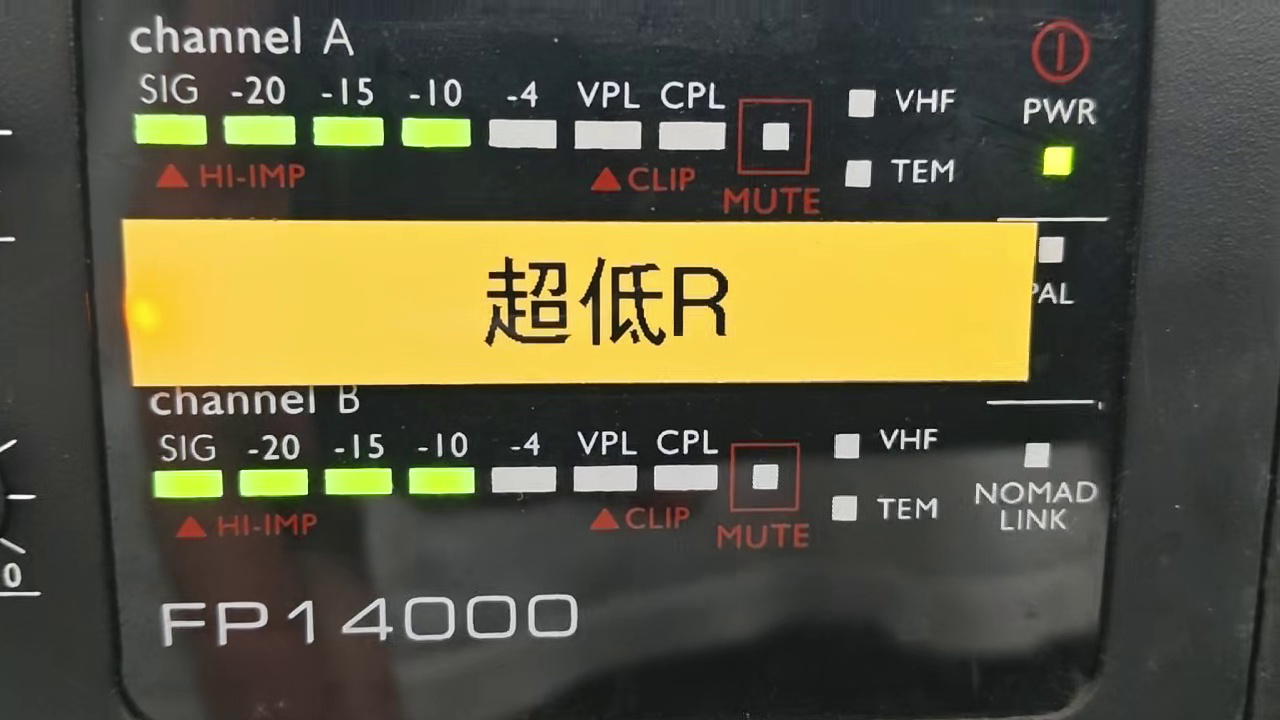FP_CPL: (654, 70, 730, 161), (649, 420, 722, 499)
FP_PWR: (1014, 93, 1102, 185)
FP_PWR_area: (995, 18, 1113, 214)
FP_SIG_area: (131, 61, 970, 222), (148, 419, 954, 558)
FP_VPL: (571, 70, 649, 158), (569, 419, 643, 503)
